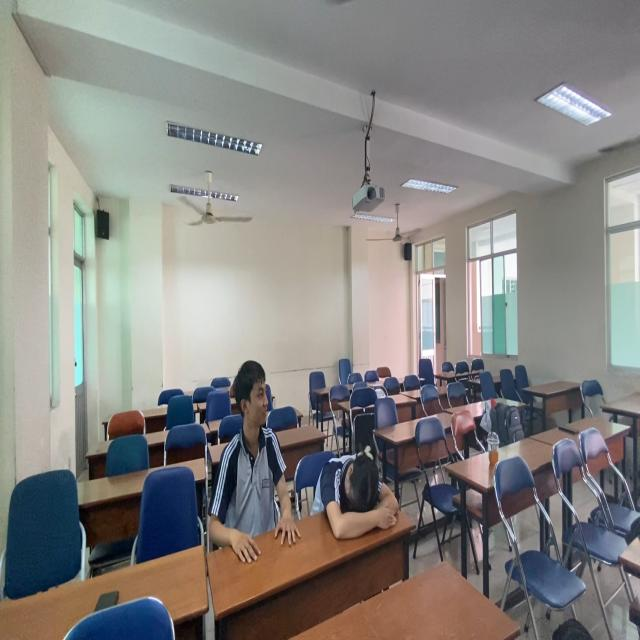sleep: (311, 440, 406, 542)
